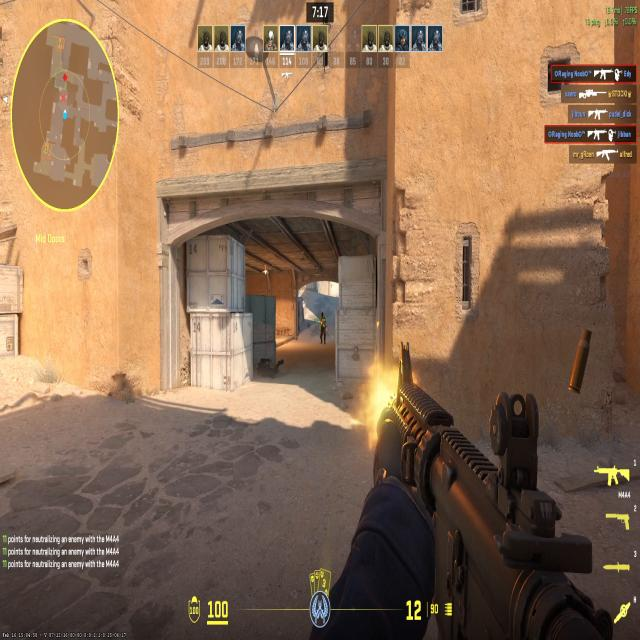player: (317, 311, 328, 345)
